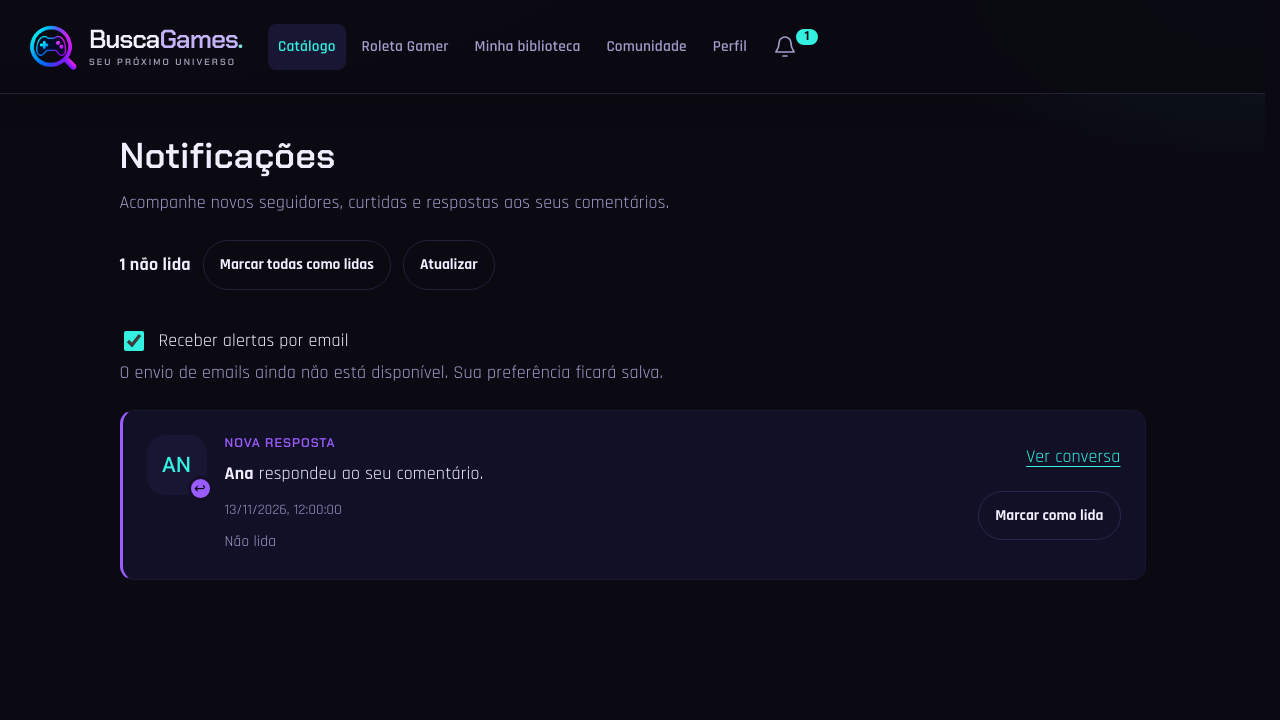
Test case: mostra o sino, mantém não lida ao abrir e atualiza a contagem após leitura explícita
Expected: the link named "Notificações: 1 não lidas" is shown, [773,27,820,59]
Expected: the text "Não lida" is shown, [224,532,276,551]
Click the button "Marcar todas como lidas" at (297, 265), box [203,240,391,290]
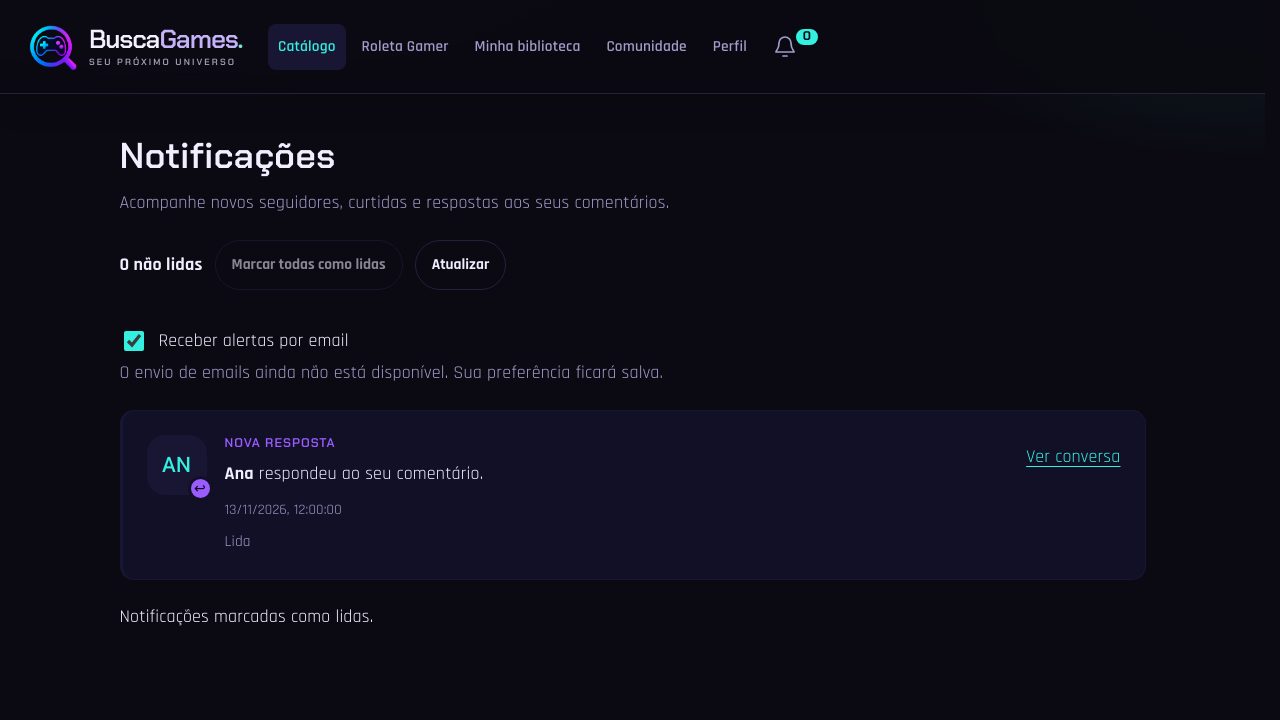
Expected: the text "Lida" is shown, [224,532,251,551]
Now the link named "Notificações: 0 não lidas" is shown, box [773,27,820,59]
Click the checkbox labelled "Receber alertas por email" at (134, 341), box [124,331,144,351]
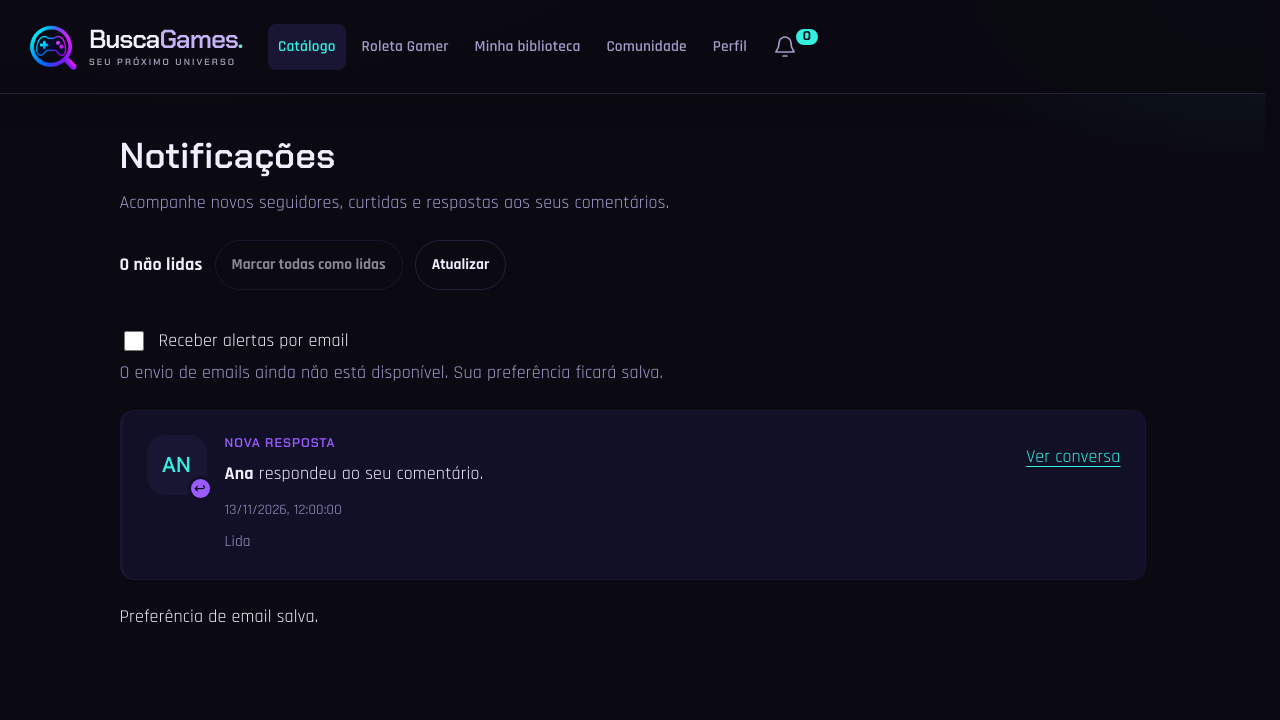
Now the checkbox is not checked, box [124,331,144,351]
